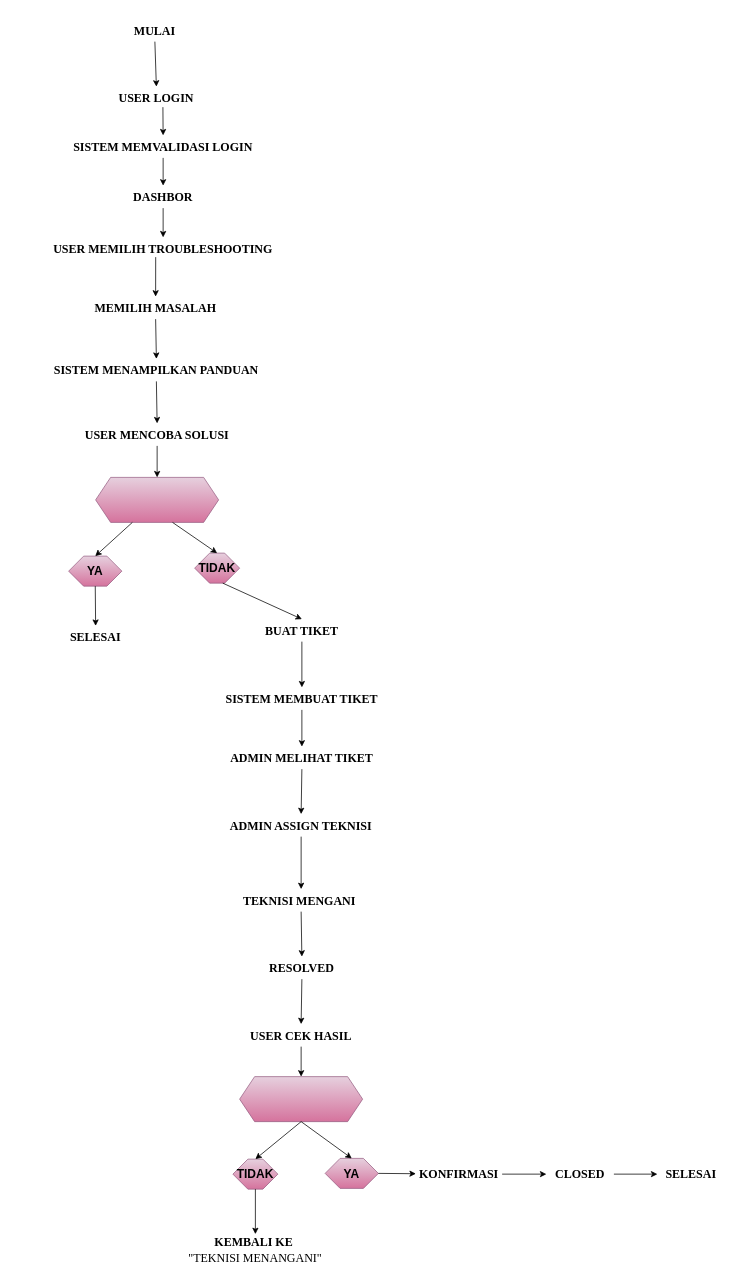
Some shapes in this 737 by 1276 pixel diagram are drawn without their labels. Each missing label, with the centre of its shape:
BERHASIL?: (157,499)
SUDAH SELESAI?: (301,1099)
